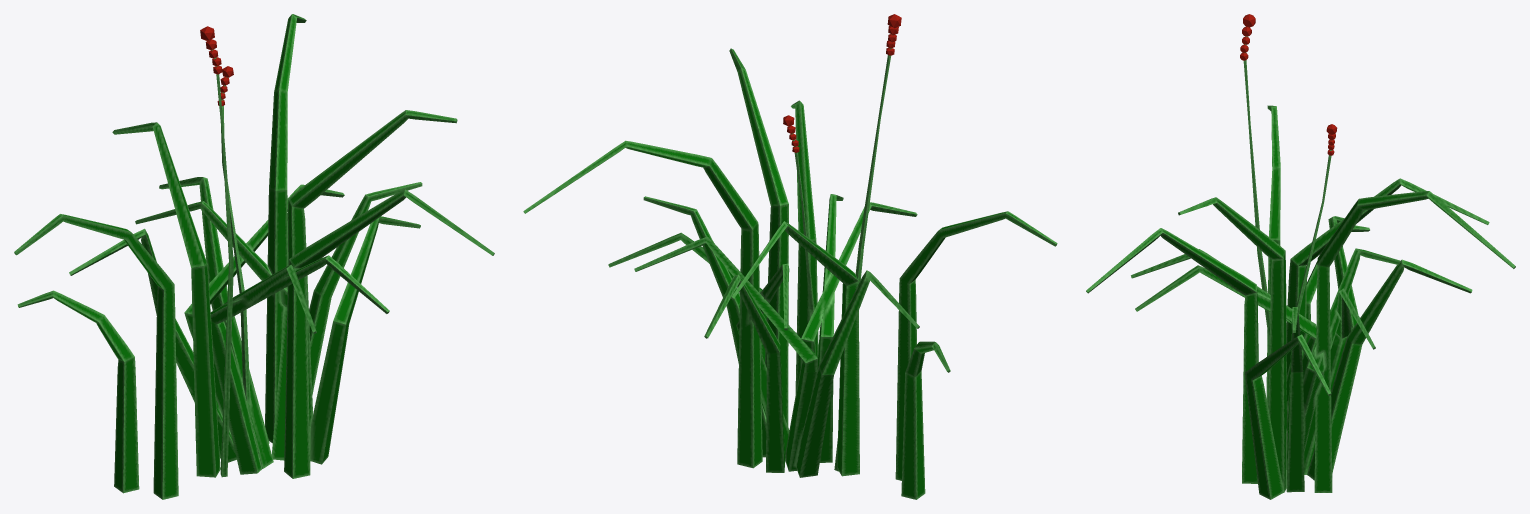
The model's file is Grass3.fbx.
The picture shows the model from 3 angles, left to right: view 1: azimuth 30°, elevation 25°; view 2: azimuth 150°, elevation 25°; view 3: azimuth 270°, elevation 25°; orthographic projection. The views are drawn at different scales.
Visible parts, largest first — view 1: Cube.026; view 2: Cube.026; view 3: Cube.026.
Boxes of the visible parts, x1,y1,x2,y2 form: Cube.026: (14,14,494,499); Cube.026: (523,14,1057,499); Cube.026: (1086,14,1515,499).
Size of the model in its own units: 12.76 by 13.17 by 11.94.
